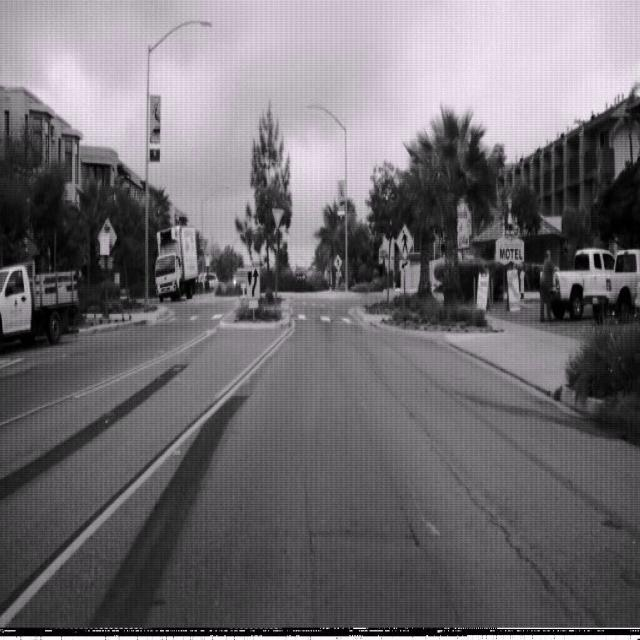pedestrianCrossing: (394, 220, 414, 258)
yield: (270, 206, 284, 230)
